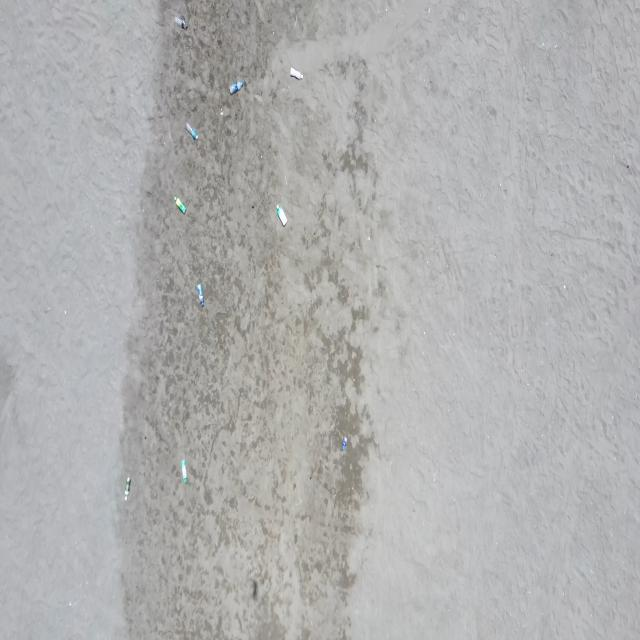Garbage: (276, 204, 287, 226), (228, 80, 244, 94), (173, 196, 186, 213), (187, 123, 198, 140), (289, 67, 303, 79), (196, 283, 203, 307), (175, 16, 187, 28), (180, 459, 186, 483), (123, 476, 129, 500), (340, 435, 347, 451), (252, 579, 256, 599)
